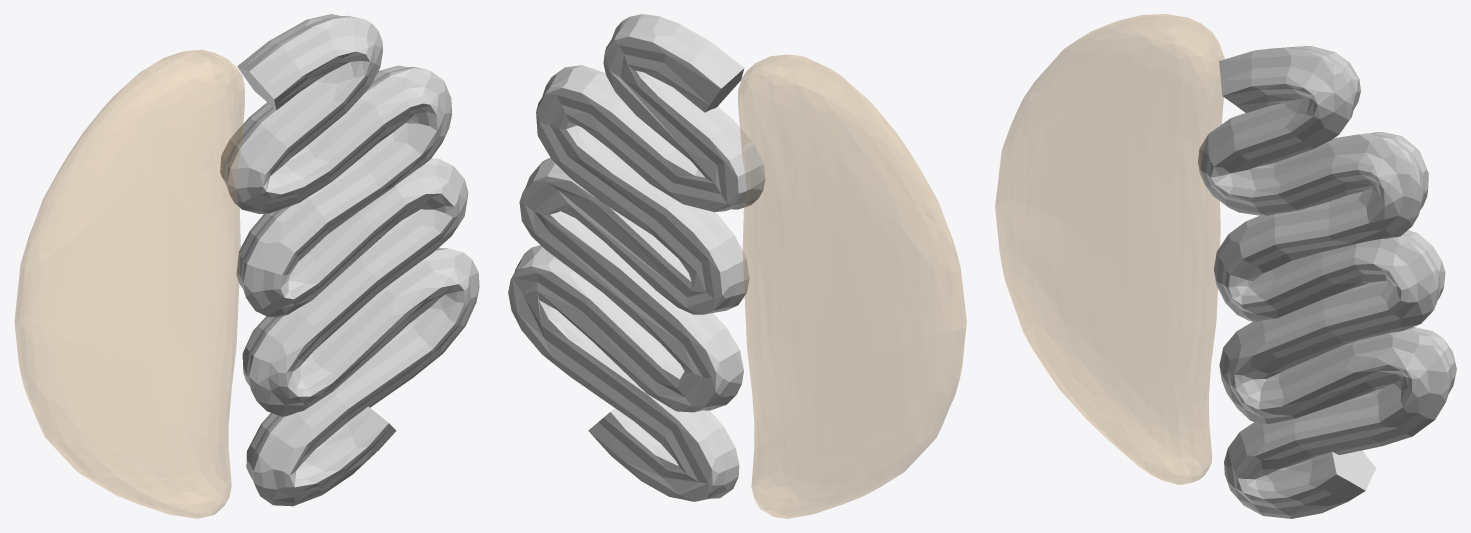
Rendered from topping_cream,jam.glb.
The picture shows the model from 3 angles, left to right: view 1: azimuth 30°, elevation 25°; view 2: azimuth 150°, elevation 25°; view 3: azimuth 330°, elevation 25°; orthographic projection.
Visible parts, largest first — view 1: Cube.689; view 2: Cube.689; view 3: Cube.689.
Boxes of the visible parts, x1=… form: Cube.689: x1=14, y1=14, x2=479, y2=518; Cube.689: x1=508, y1=14, x2=966, y2=518; Cube.689: x1=995, y1=14, x2=1456, y2=518.
Size of the model in its own units: 13.44 by 13.39 by 1.66.
